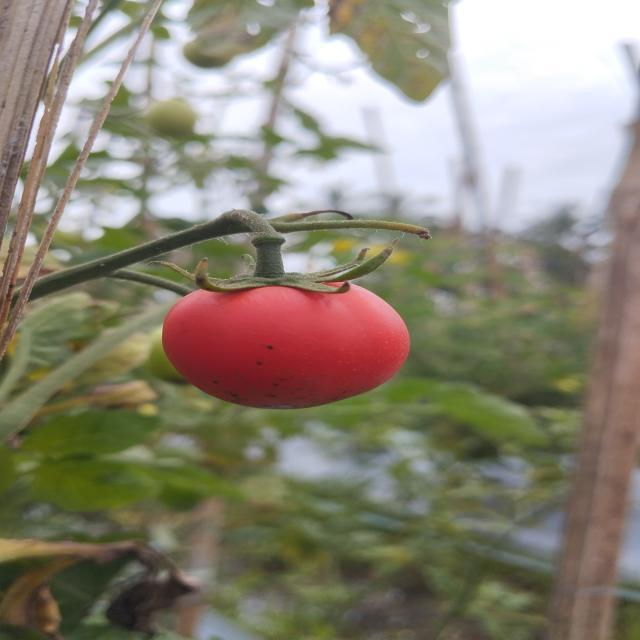Masak: (123, 250, 447, 435)
